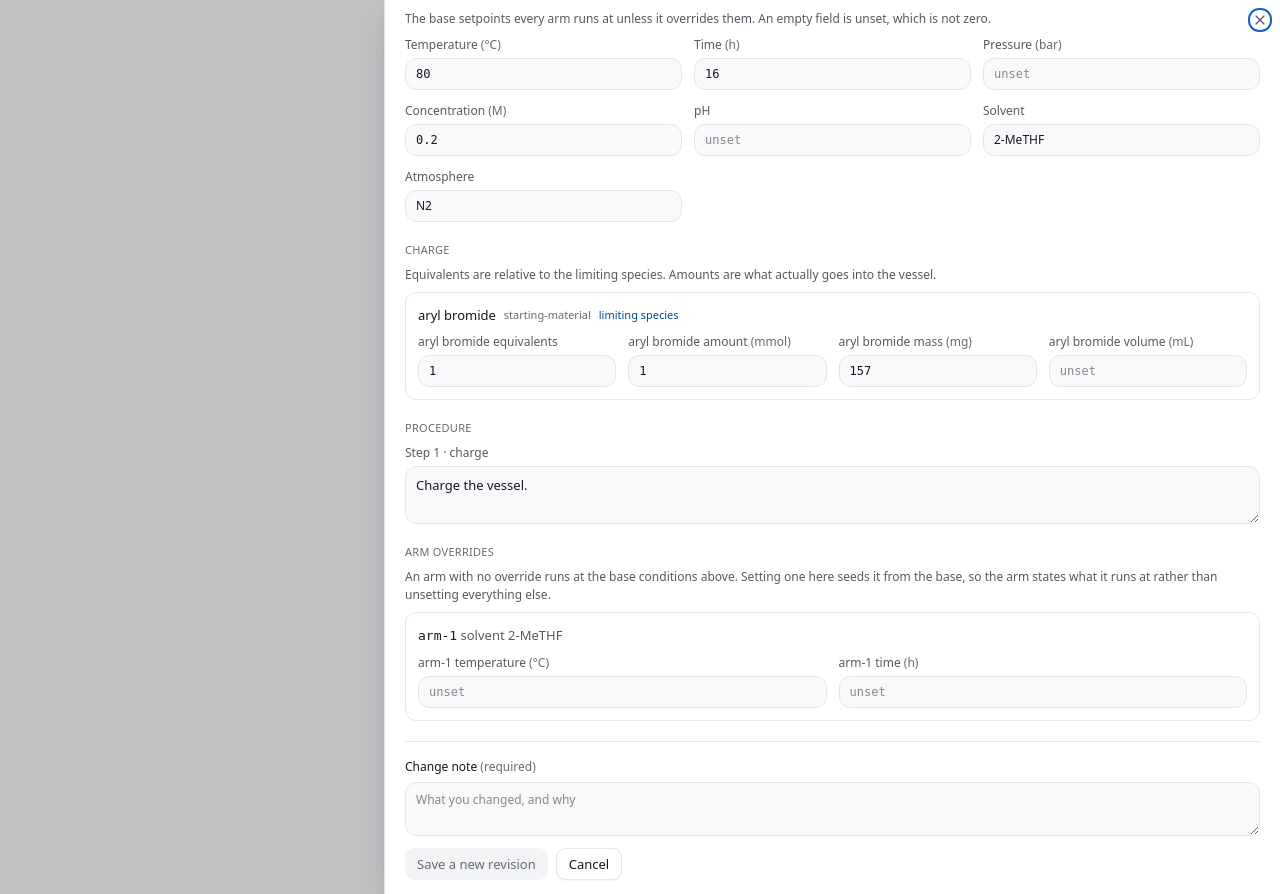
Test case: ProtocolEditor › reports any other failure as itself, not as a conflict with a colleague
(page scrolled)
Type "Raised the temperature to 100 °C." into the text box labelled "Change note (required)".
click(832, 809); type("Raised the temperature to 100 °C.")  # box [405,782,1260,836]
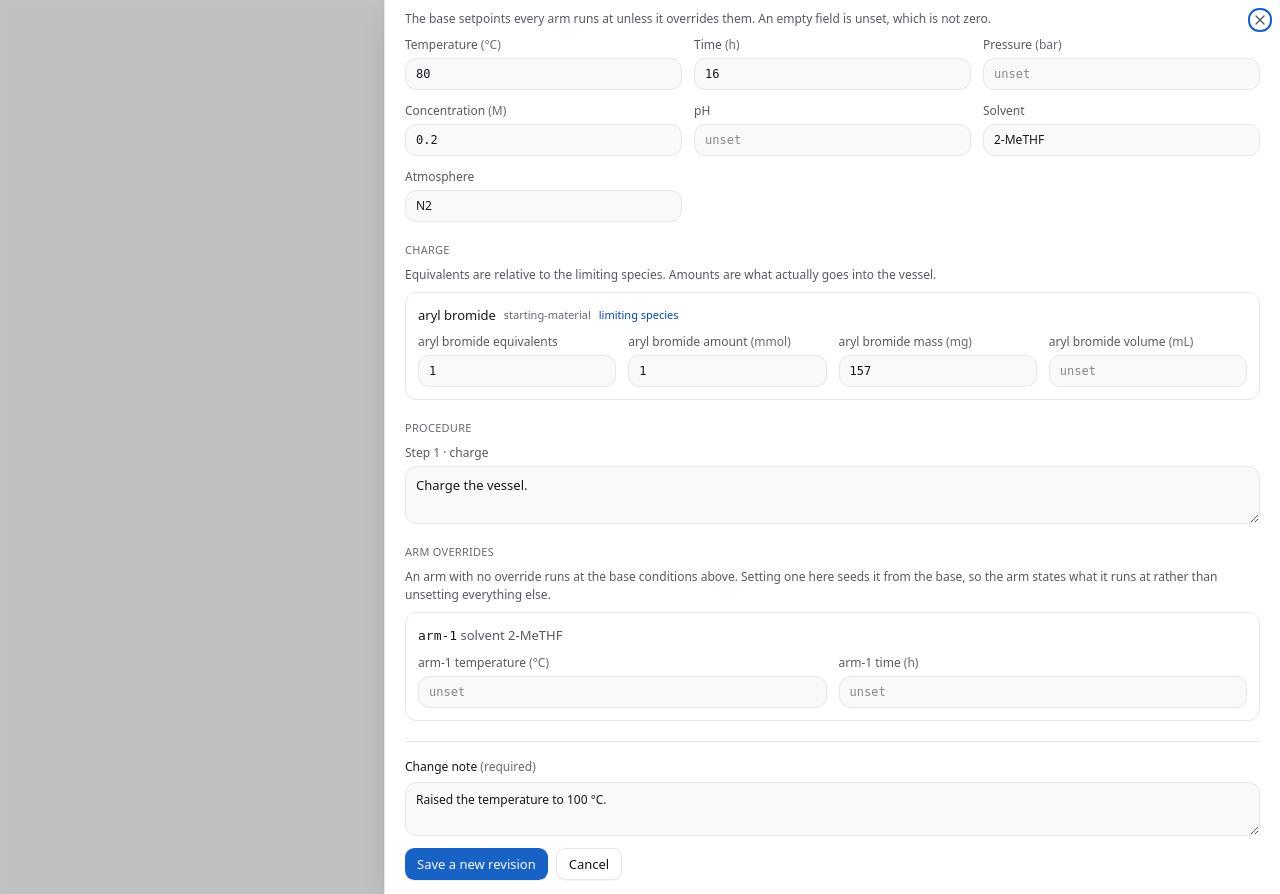
Click the button "Save a new revision".
click(476, 864)  # box [405,848,548,880]
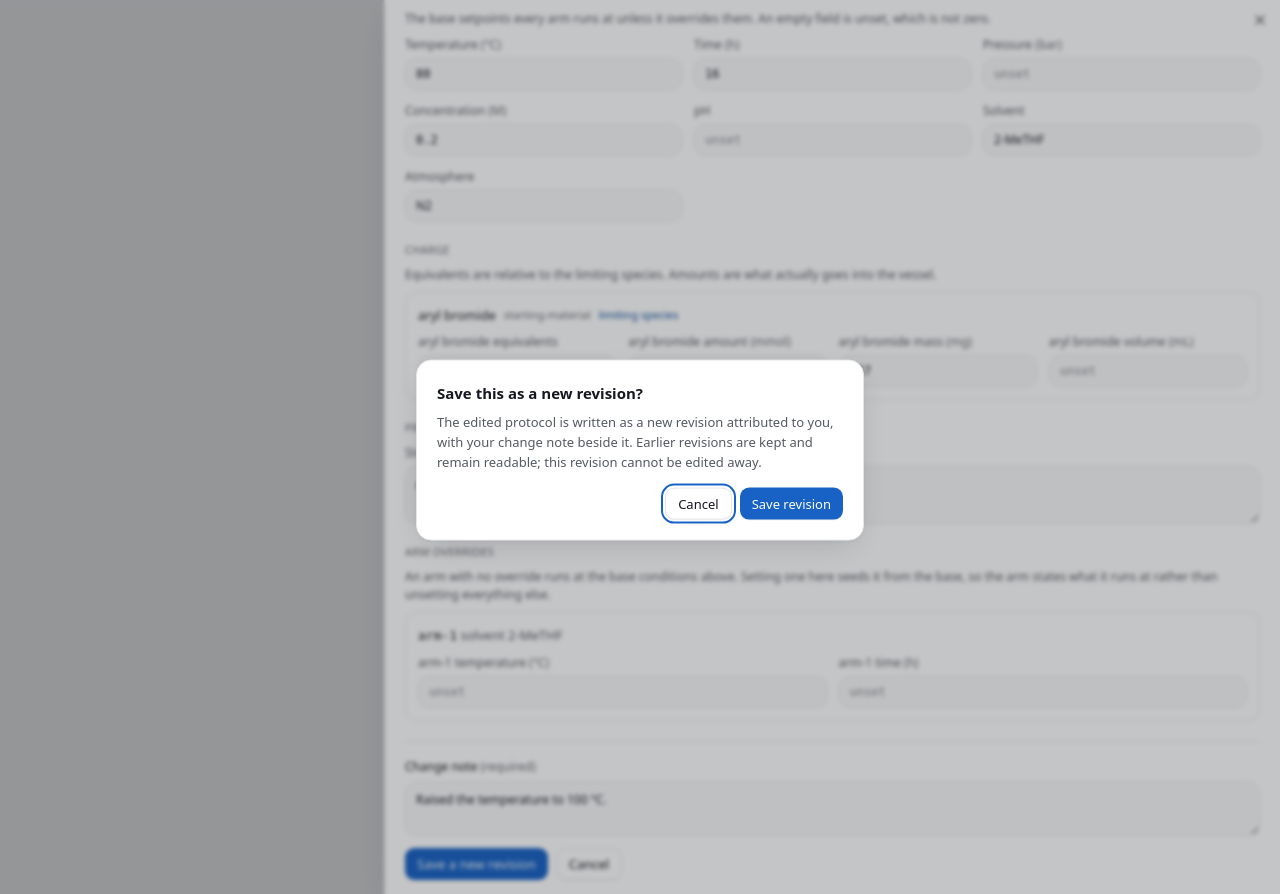
Click the button "Save revision".
click(791, 503)  # box [740,487,843,519]
(page scrolled)
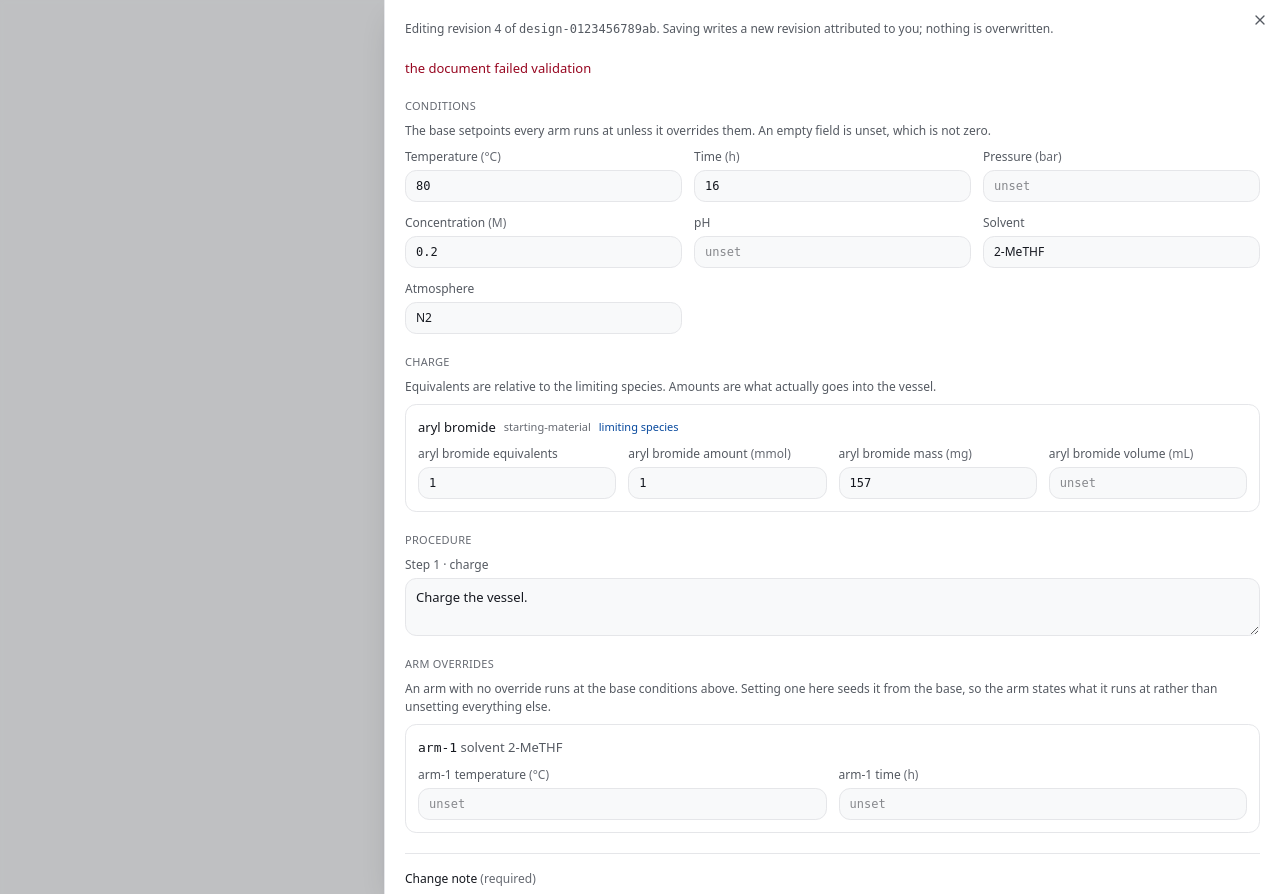
Check: the message "the document failed validation" is shown, box [405,59,591,77]
